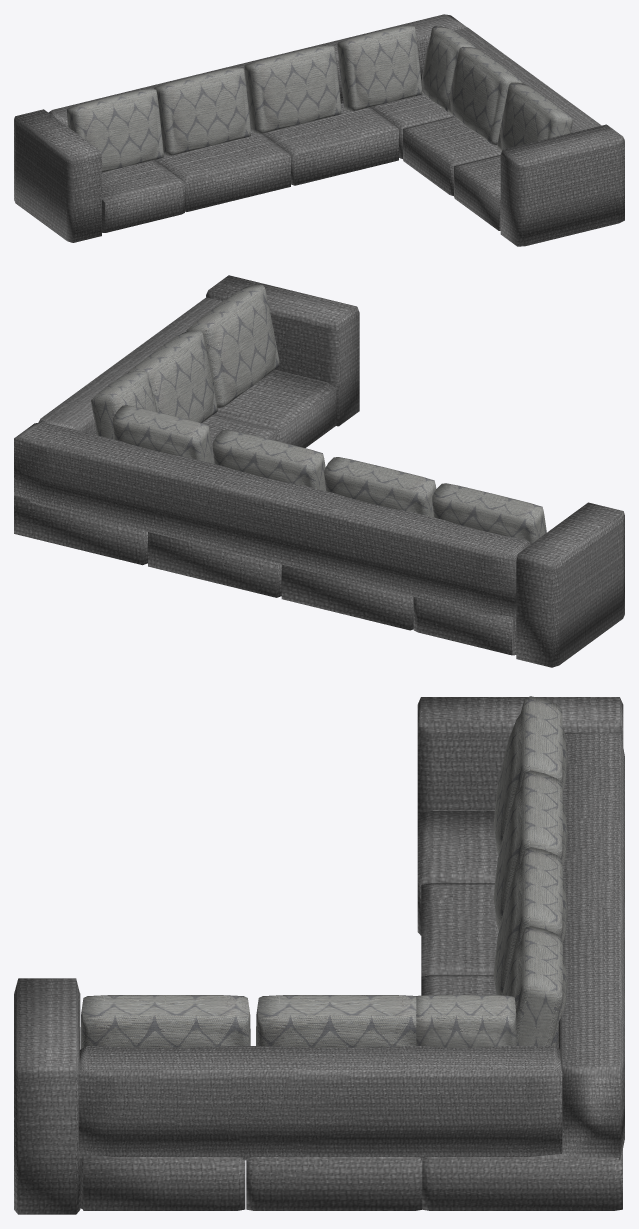
File: sofa (1).glb
The picture shows the model from 3 angles, top to bottom: view 1: azimuth 30°, elevation 25°; view 2: azimuth 150°, elevation 25°; view 3: azimuth 270°, elevation 25°; orthographic projection. The views are drawn at different scales.
Visible parts, largest first — view 1: Box004_Material #28_0, Box009_Material #27_0, Box008_Material #27_0, Box010_Material #27_0, Box005_Material #27_0, Box011_Material #27_0, Box012_Material #27_0, Box013_Material #27_0, Box006_Material #28_0, Box007_Material #28_0; view 2: Box004_Material #28_0, Box006_Material #28_0, Box012_Material #27_0, Box011_Material #27_0, Box009_Material #27_0, Box005_Material #27_0, Box008_Material #27_0, Box010_Material #27_0, Box007_Material #28_0, Box013_Material #27_0; view 3: Box004_Material #28_0, Box007_Material #28_0, Box006_Material #28_0, Box012_Material #27_0, Box011_Material #27_0, Box010_Material #27_0, Box009_Material #27_0, Box008_Material #27_0, Box005_Material #27_0, Box013_Material #27_0.
Part boxes in pixels (box(x1,y1,x2,y2)): Box004_Material #28_0: box(14, 93, 624, 246); Box009_Material #27_0: box(244, 45, 341, 133); Box008_Material #27_0: box(154, 67, 250, 155); Box010_Material #27_0: box(337, 25, 422, 110); Box005_Material #27_0: box(67, 88, 163, 172); Box011_Material #27_0: box(447, 46, 522, 145); Box012_Material #27_0: box(497, 82, 572, 151); Box013_Material #27_0: box(421, 26, 475, 111); Box006_Material #28_0: box(48, 14, 466, 126); Box007_Material #28_0: box(454, 27, 601, 132); Box004_Material #28_0: box(14, 275, 624, 667); Box006_Material #28_0: box(14, 422, 531, 619); Box012_Material #27_0: box(186, 285, 279, 408); Box011_Material #27_0: box(128, 330, 217, 422); Box009_Material #27_0: box(212, 429, 325, 490); Box005_Material #27_0: box(432, 483, 546, 543); Box008_Material #27_0: box(324, 457, 436, 517); Box010_Material #27_0: box(113, 405, 213, 463); Box007_Material #28_0: box(38, 297, 222, 434); Box013_Material #27_0: box(91, 371, 157, 439); Box004_Material #28_0: box(14, 697, 623, 1214); Box007_Material #28_0: box(78, 1046, 562, 1160); Box006_Material #28_0: box(558, 733, 624, 1160); Box012_Material #27_0: box(80, 995, 250, 1048); Box011_Material #27_0: box(256, 995, 416, 1047); Box010_Material #27_0: box(502, 926, 567, 1047); Box009_Material #27_0: box(493, 847, 567, 995); Box008_Material #27_0: box(493, 770, 567, 930); Box005_Material #27_0: box(493, 696, 567, 855); Box013_Material #27_0: box(416, 995, 516, 1047).
Size of the model in its own units: 125 by 28.01 by 86.51.
Materials: 2 (2 with a texture image).
